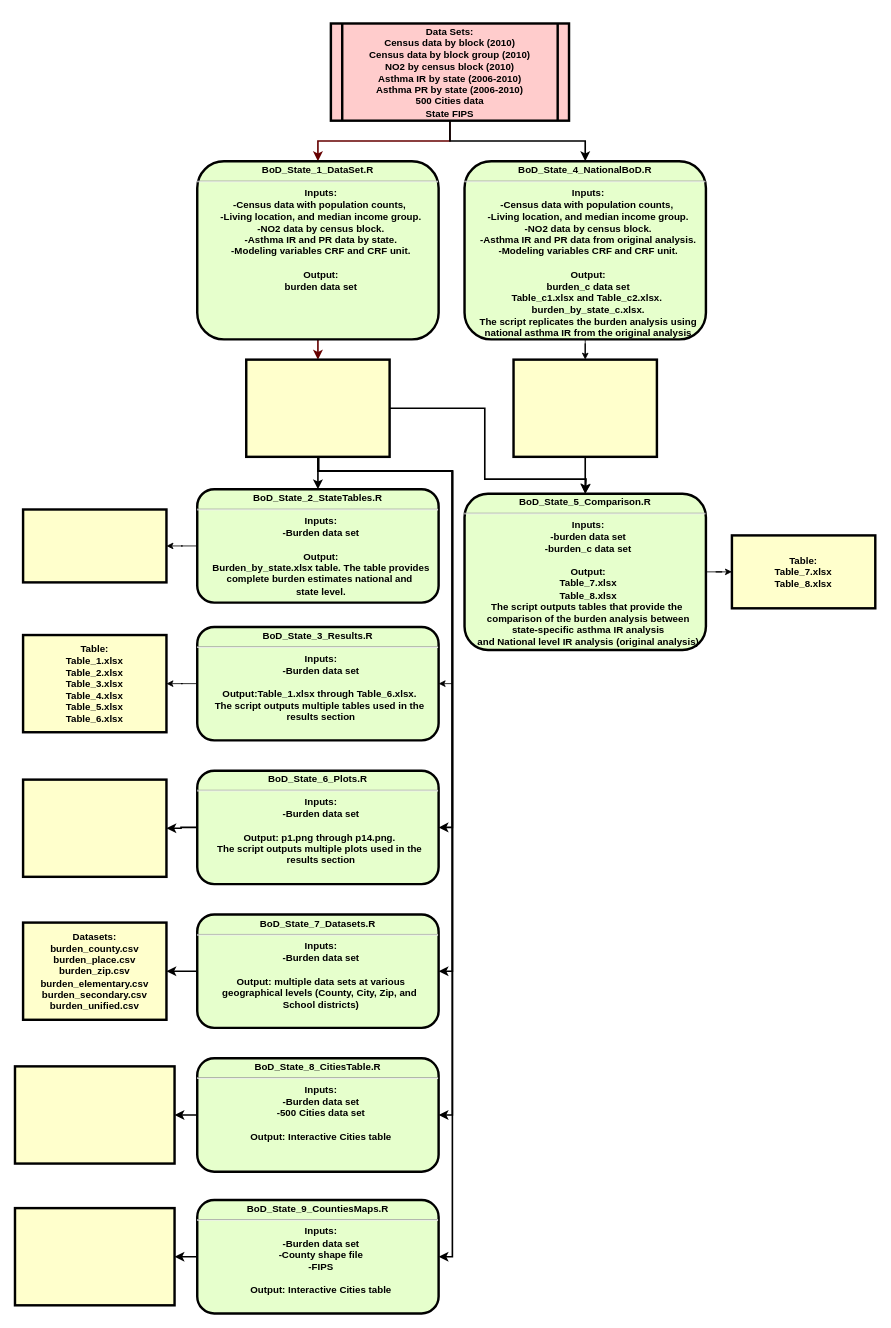
Some shapes in this 891 by 1328 pixel diagram are drawn without their labels. Each missing label, with the centre of its shape:
Data set: burden: the point at 317,408
Data set: burden_c Table: Table_c1.xlsx Table_c2.xlsx burden_by_state_c.xlsx: the point at 585,408
HTML: Cities500.html: the point at 94,1114
HTML: StateSpecific_Counties_leaf.html: the point at 94,1256
Table: Burden_by_state.xlsx: the point at 94,545
Table: p1.png : : p14.png: the point at 94,828
